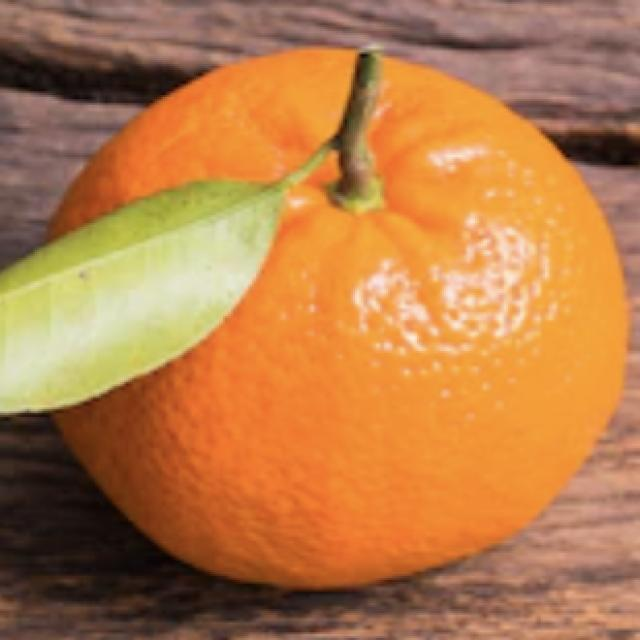Orange: (38, 43, 630, 592)
